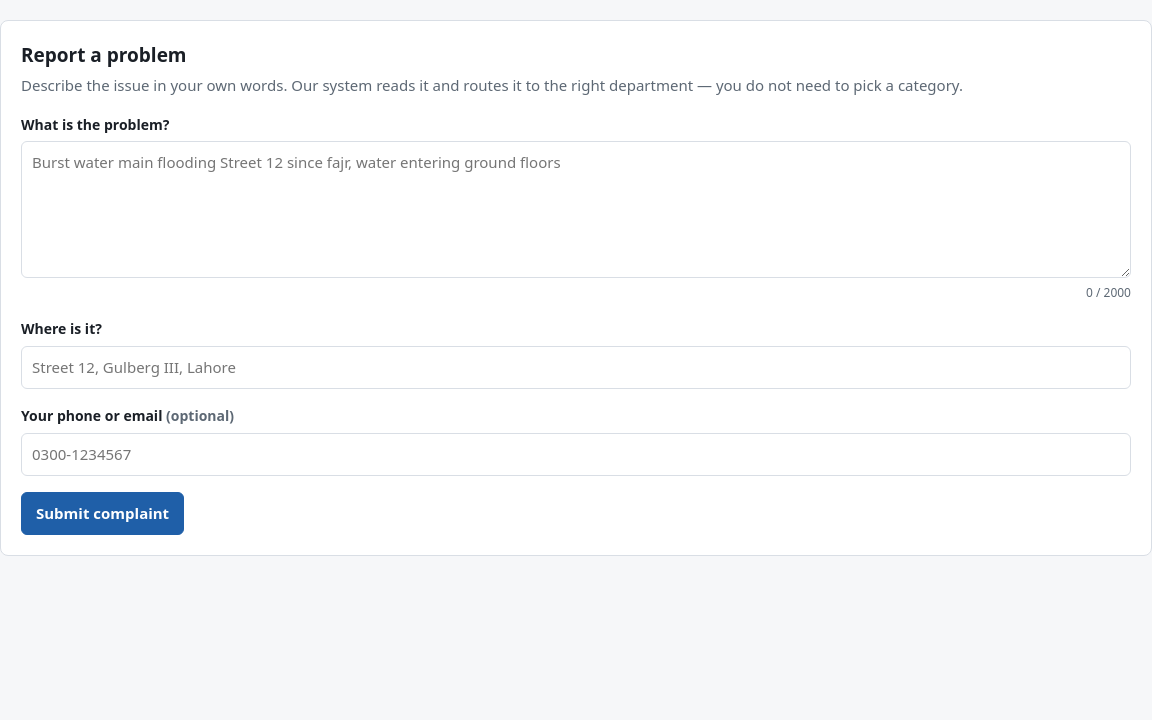
SubmitPage › shows an honest loading state while triage is in flight
Type "Garbage not lifted for ten days near the corner point, smell is unbearable." into the text box labelled "What is the problem?".
click(576, 210); type("Garbage not lifted for ten days near the corner point, smell is unbearable.")  # box [21,141,1131,278]
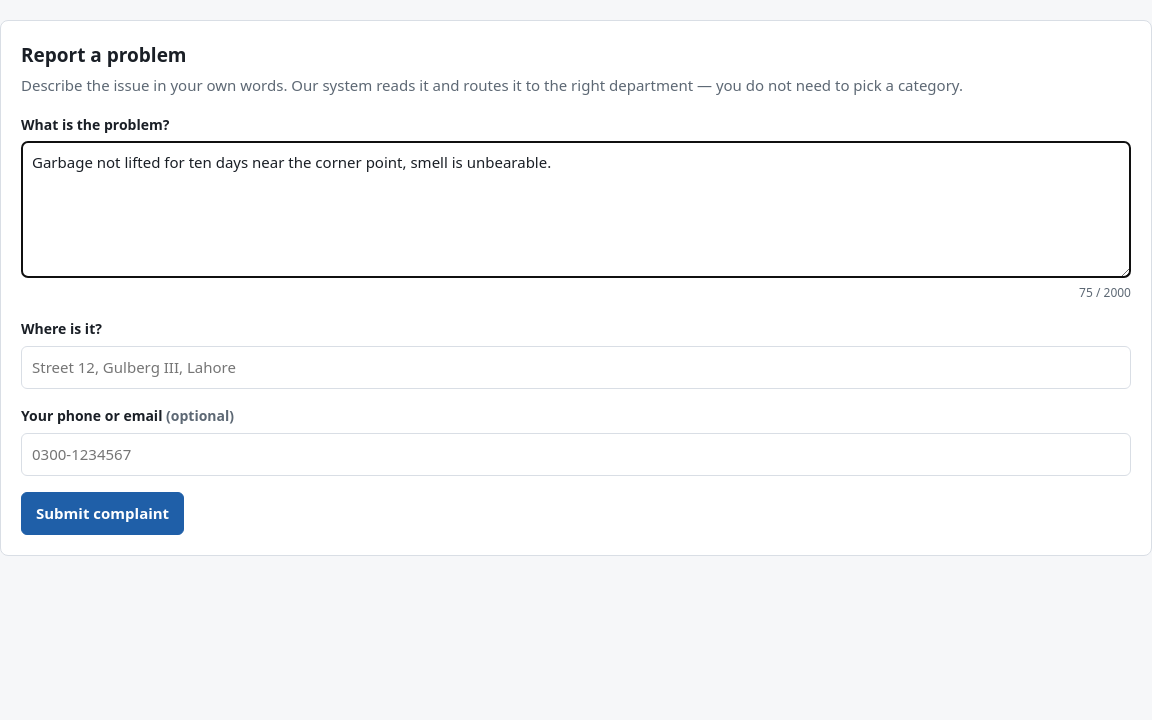
Type "Allama Iqbal Town, Lahore" into the field labelled "Where is it?".
click(576, 368); type("Allama Iqbal Town, Lahore")  # box [21,346,1131,389]
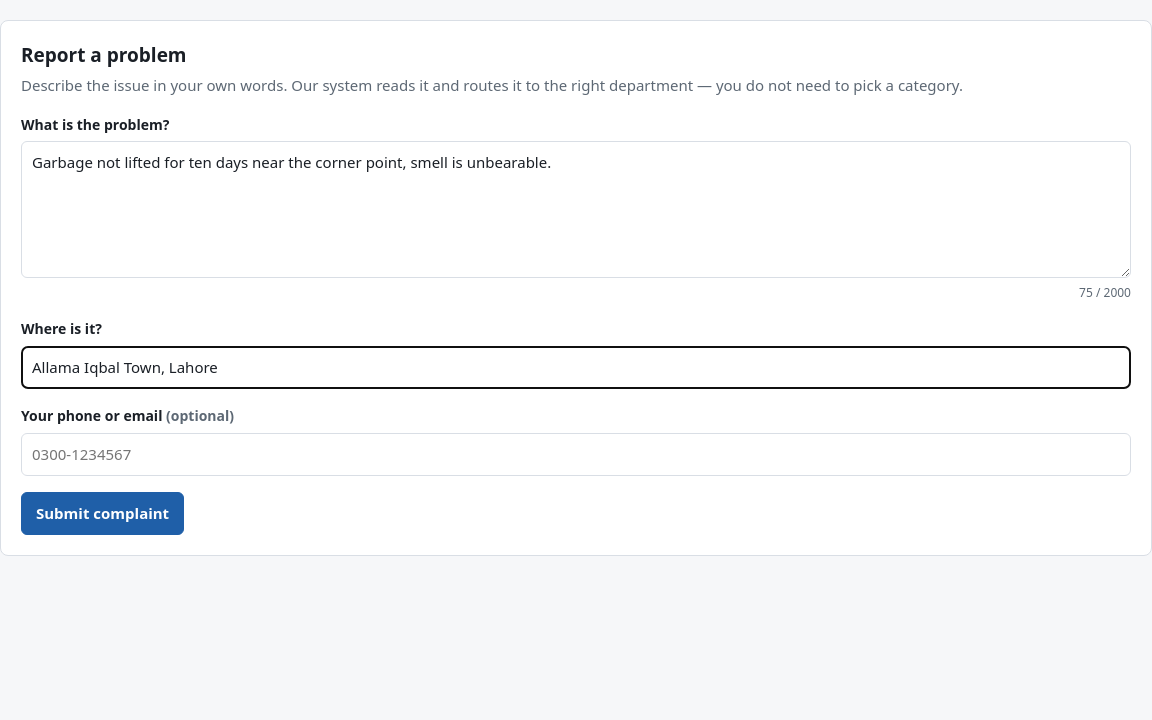
Click the button "Submit complaint".
click(103, 514)  # box [21,492,184,535]
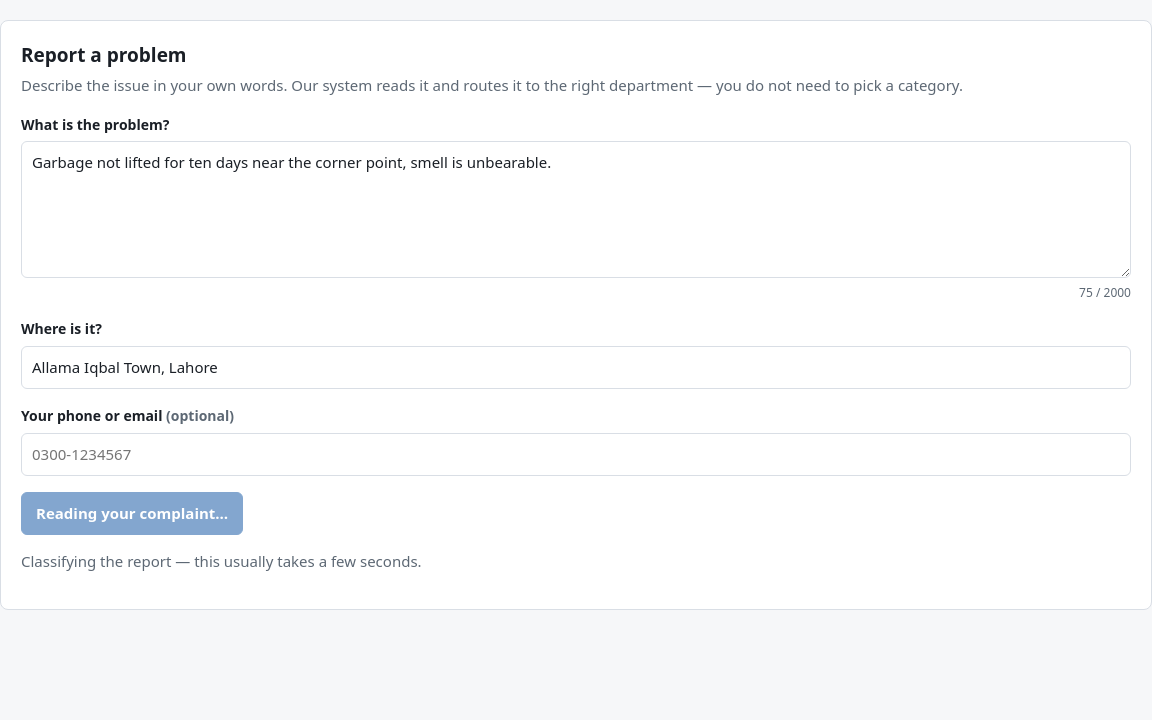
Now the button "Reading your complaint…" is disabled, box [21,492,243,535]
Now the text "Classifying the report — this usually takes a few seconds." is shown, box [21,551,422,571]
